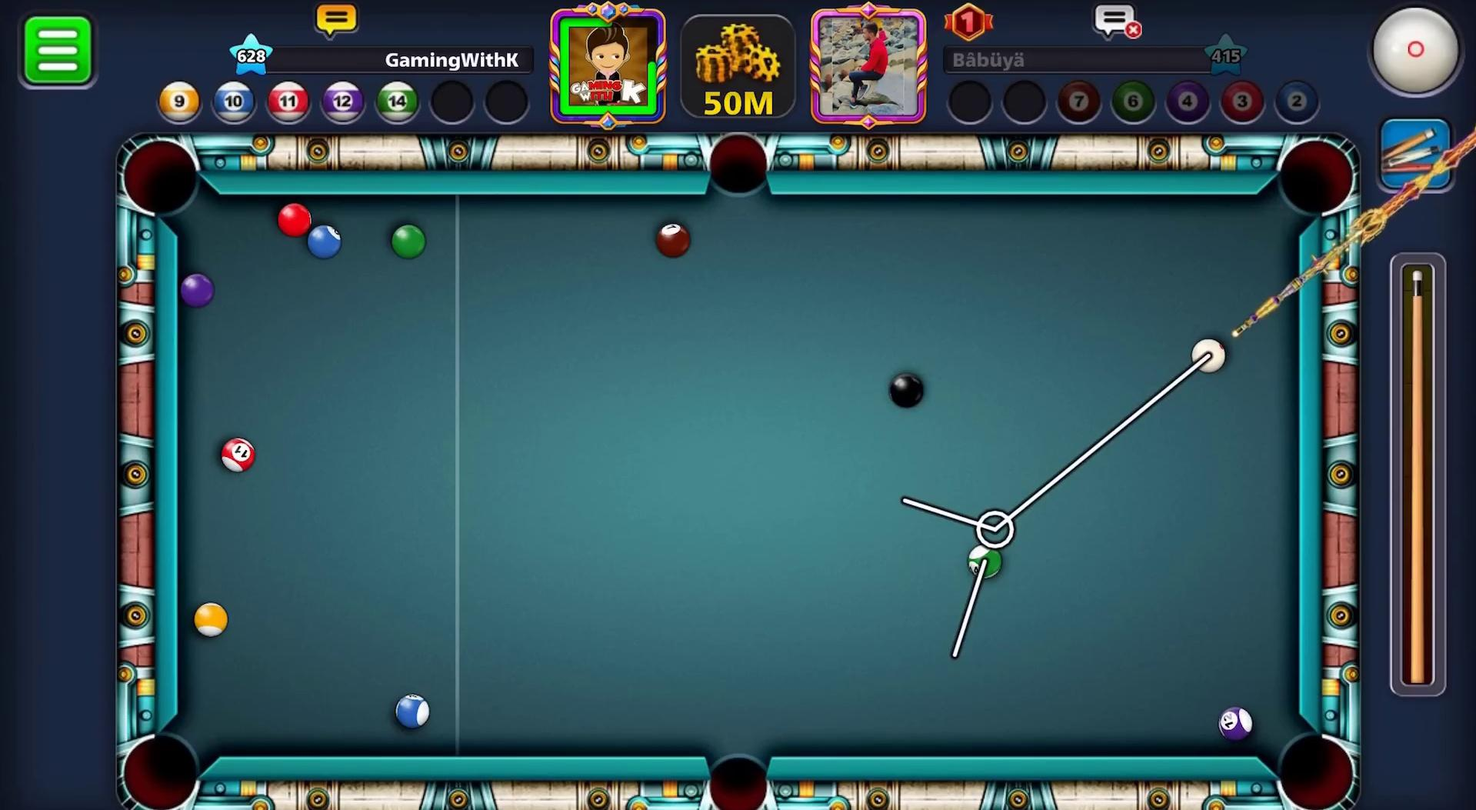Ball: (266, 192, 321, 238), (881, 369, 931, 415), (296, 222, 346, 268), (645, 216, 696, 260), (961, 537, 1005, 586), (177, 265, 217, 313), (1217, 703, 1258, 743), (391, 692, 431, 731), (387, 222, 425, 260), (192, 601, 229, 640), (218, 433, 254, 472)
Force: (1387, 249, 1454, 700)
Guideline: (894, 345, 1213, 667)
Hole: (111, 123, 221, 232), (102, 718, 221, 809), (1264, 125, 1366, 230), (1257, 717, 1365, 809), (691, 123, 787, 215), (691, 739, 783, 809)
Play_Area: (178, 195, 1293, 756)
Spin: (1361, 0, 1475, 111)
White: (1188, 332, 1231, 378)
